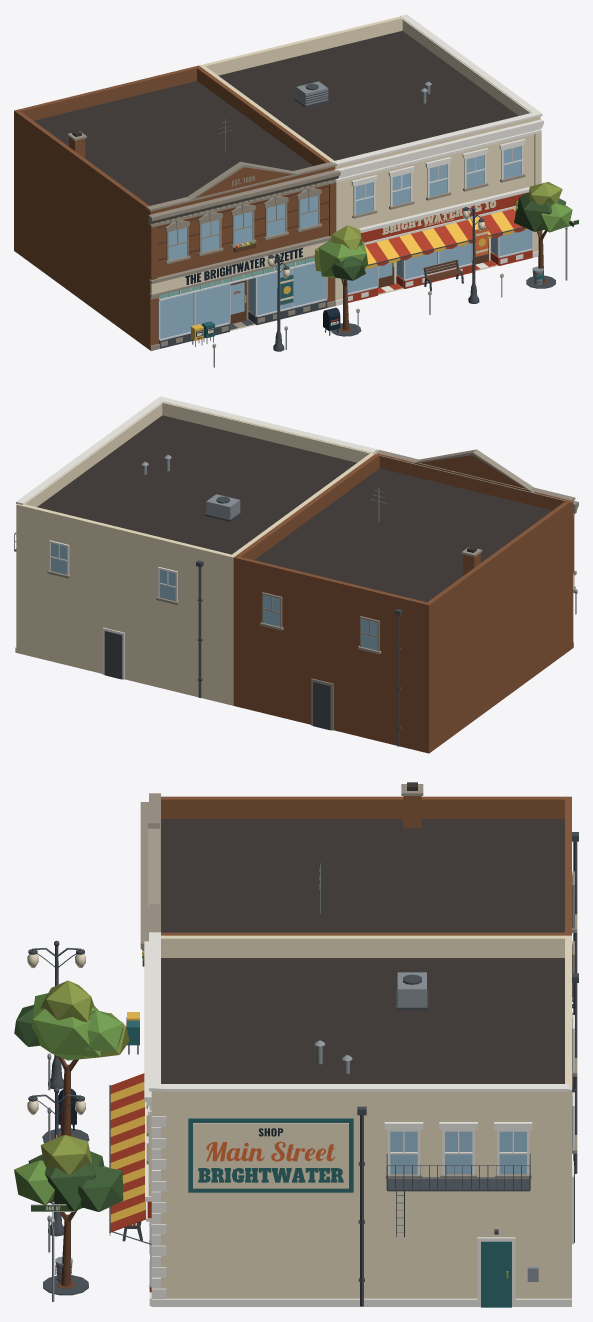
The model's file is Lobby_BlockGazette.fbx.
3 views of the same model, one above another, from view 1: azimuth 30°, elevation 25°; view 2: azimuth 150°, elevation 25°; view 3: azimuth 270°, elevation 25° (orthographic). The views are drawn at different scales.
Parts seen in each view (by area): view 1: Decor, Decor2, DecorGlassSkyblue, DecorGlassSkyblue__, DecorGlassMint, DecorGlassSkyblue_, Decor_; view 2: Decor, Decor2, DecorGlassSkyblue__; view 3: Decor2, Decor, DecorGlassSkyblue__.
Boxes of the visible parts, left/top/right/bottom form: Decor: left=14, top=65, right=399, bottom=367; Decor2: left=199, top=14, right=578, bottom=314; DecorGlassSkyblue: left=160, top=229, right=531, bottom=338; DecorGlassSkyblue__: left=168, top=146, right=521, bottom=260; DecorGlassMint: left=160, top=257, right=314, bottom=298; DecorGlassSkyblue_: left=230, top=243, right=475, bottom=314; Decor_: left=364, top=228, right=528, bottom=268; Decor: left=196, top=449, right=578, bottom=753; Decor2: left=14, top=396, right=378, bottom=705; DecorGlassSkyblue__: left=51, top=543, right=377, bottom=650; Decor2: left=14, top=932, right=577, bottom=1307; Decor: left=14, top=782, right=578, bottom=1173; DecorGlassSkyblue__: left=390, top=1131, right=526, bottom=1174.
Size of the model in its own units: 79.45 by 30.61 by 61.83.
